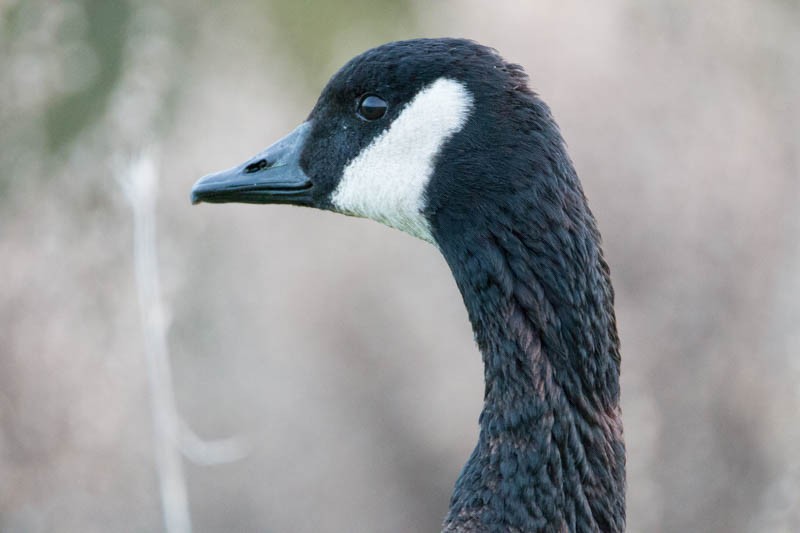goose-head: (188, 37, 560, 249)
